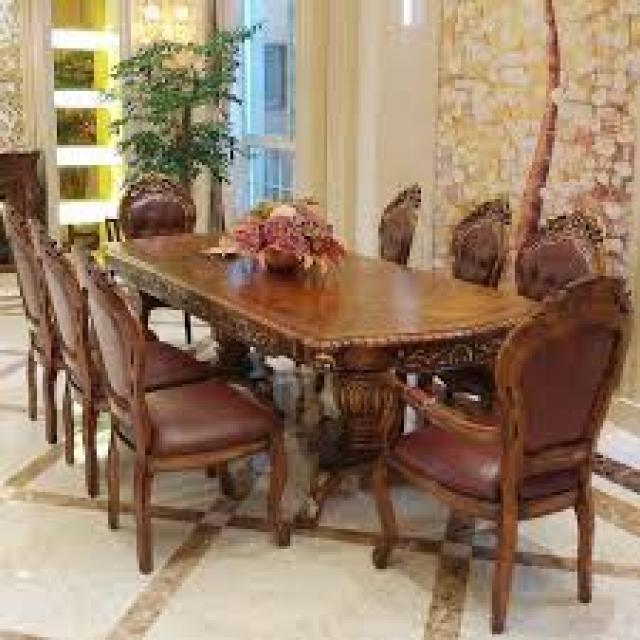table: (0, 169, 627, 638)
